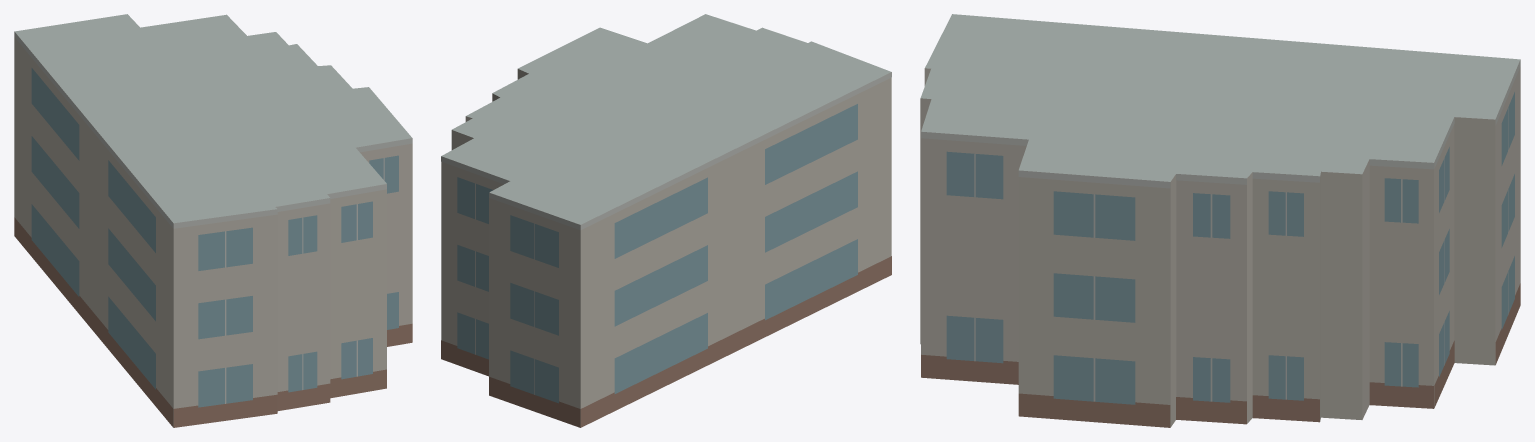
File: survey-upis-32510173.glb
3 renders of one model, left to right at view 1: azimuth 30°, elevation 25°; view 2: azimuth 150°, elevation 25°; view 3: azimuth 270°, elevation 25°, orthographic. The views are drawn at different scales.
Parts seen in each view (by area): view 1: survey-upis-32510173.tmp; view 2: survey-upis-32510173.tmp; view 3: survey-upis-32510173.tmp.
Boxes of the visible parts, x1,y1,x2,y2 form: survey-upis-32510173.tmp: [14, 14, 412, 427]; survey-upis-32510173.tmp: [441, 14, 891, 427]; survey-upis-32510173.tmp: [920, 14, 1520, 427].
Size of the model in its own units: 13.41 by 9.15 by 20.24.
